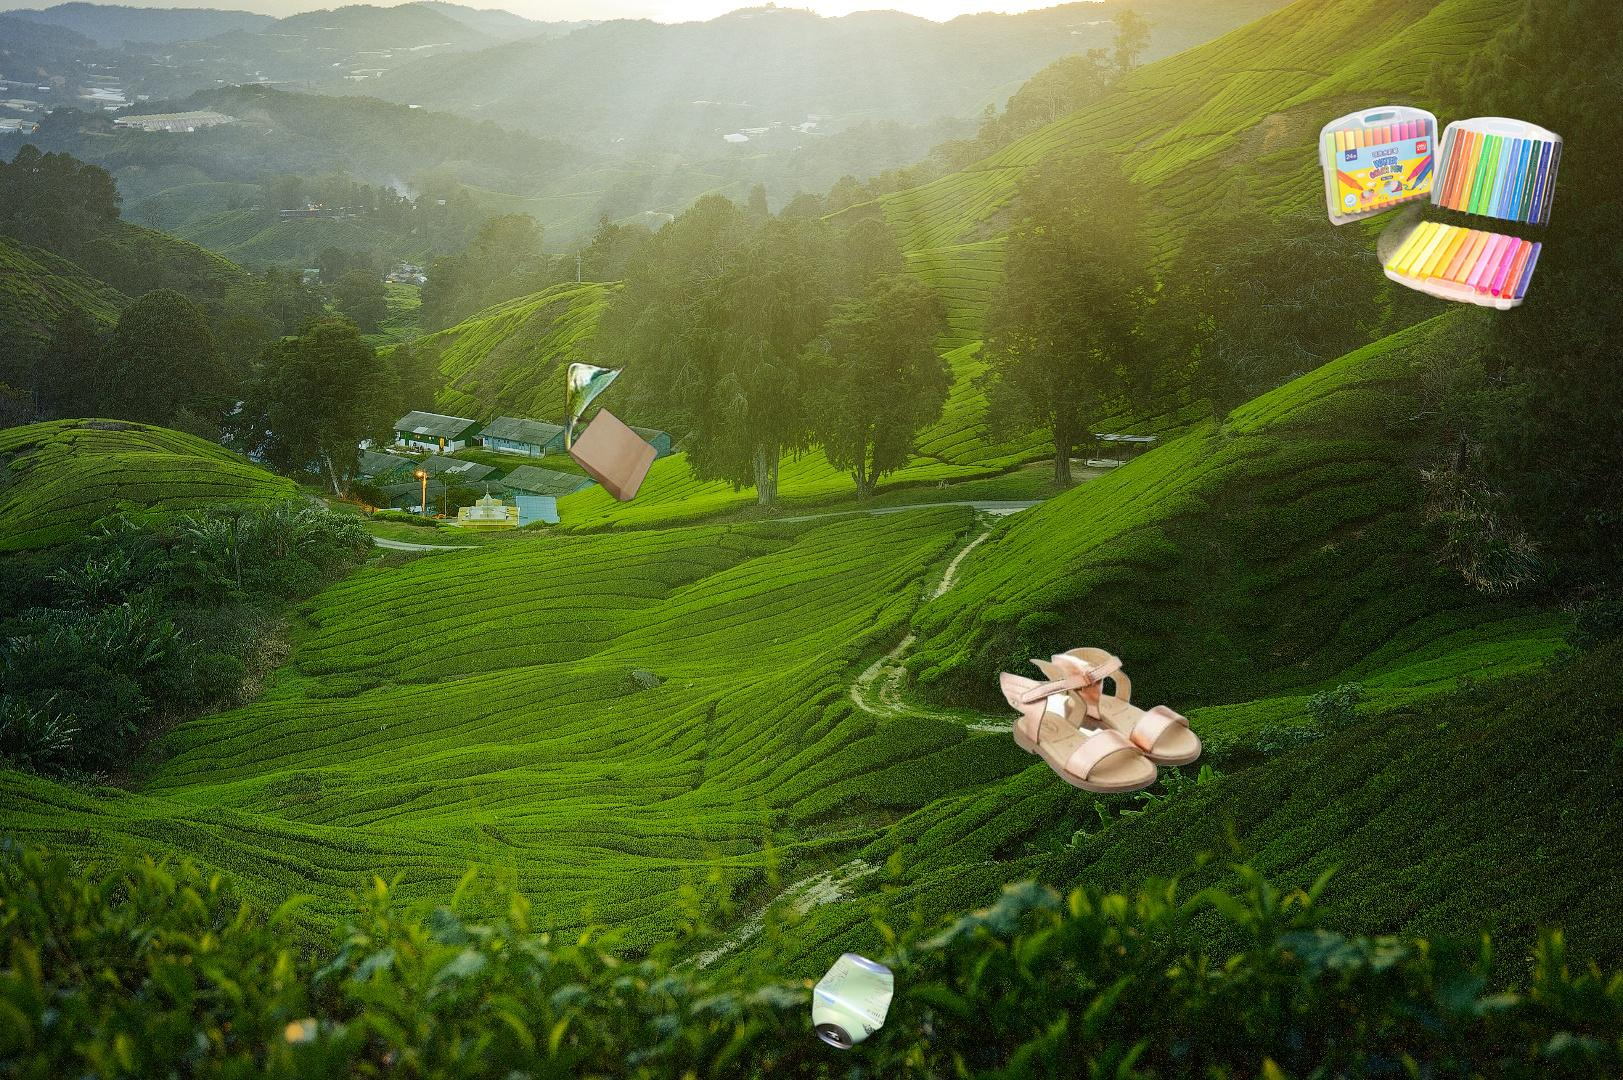metal-cans: (527, 931, 1039, 1080)
paper-bag: (429, 350, 729, 628)
penholder: (1318, 102, 1568, 313)
shoes: (996, 644, 1205, 796)
